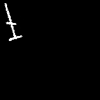double_crochet: (5, 3, 21, 40)
